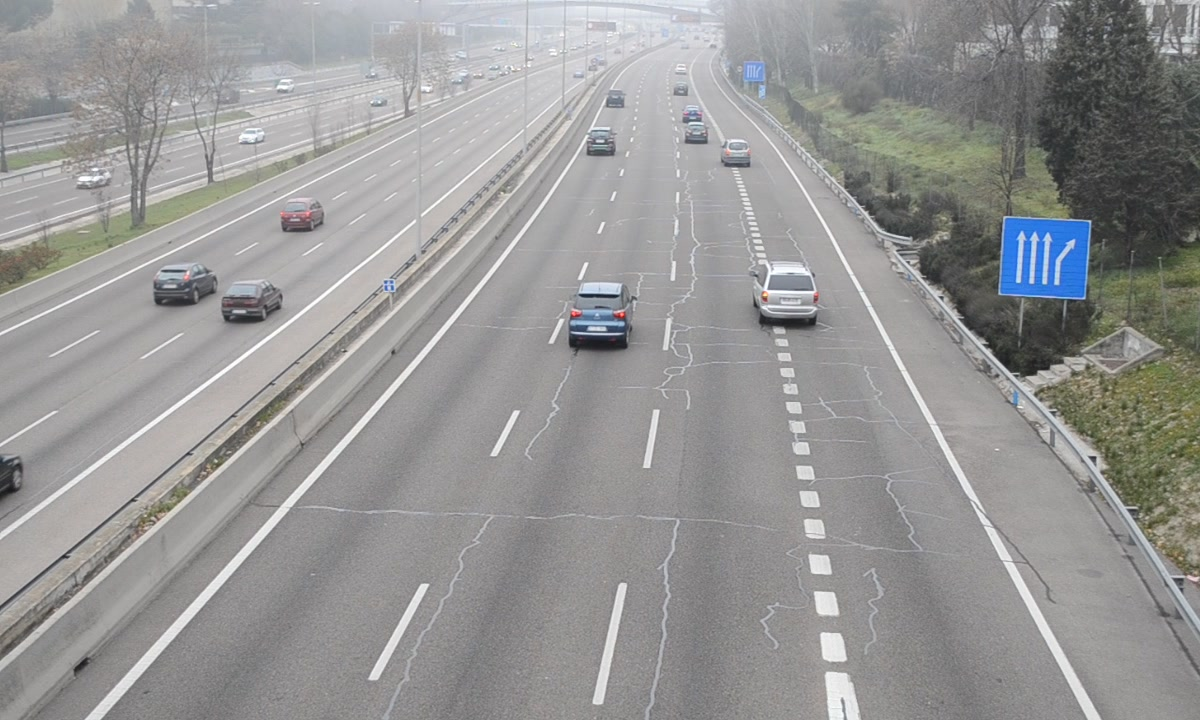car: (566, 282, 633, 343), (753, 261, 818, 321), (721, 137, 751, 168), (584, 126, 616, 155), (683, 121, 710, 145)
